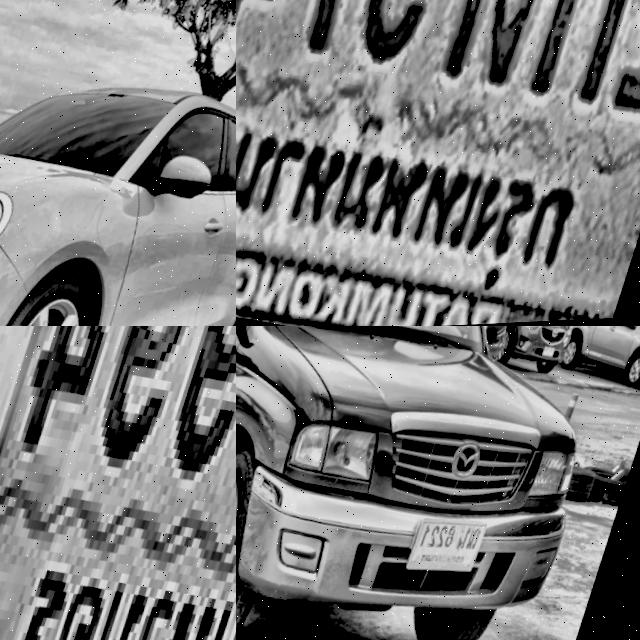license-plate: (236, 0, 640, 326), (0, 326, 236, 640), (413, 512, 501, 587)
